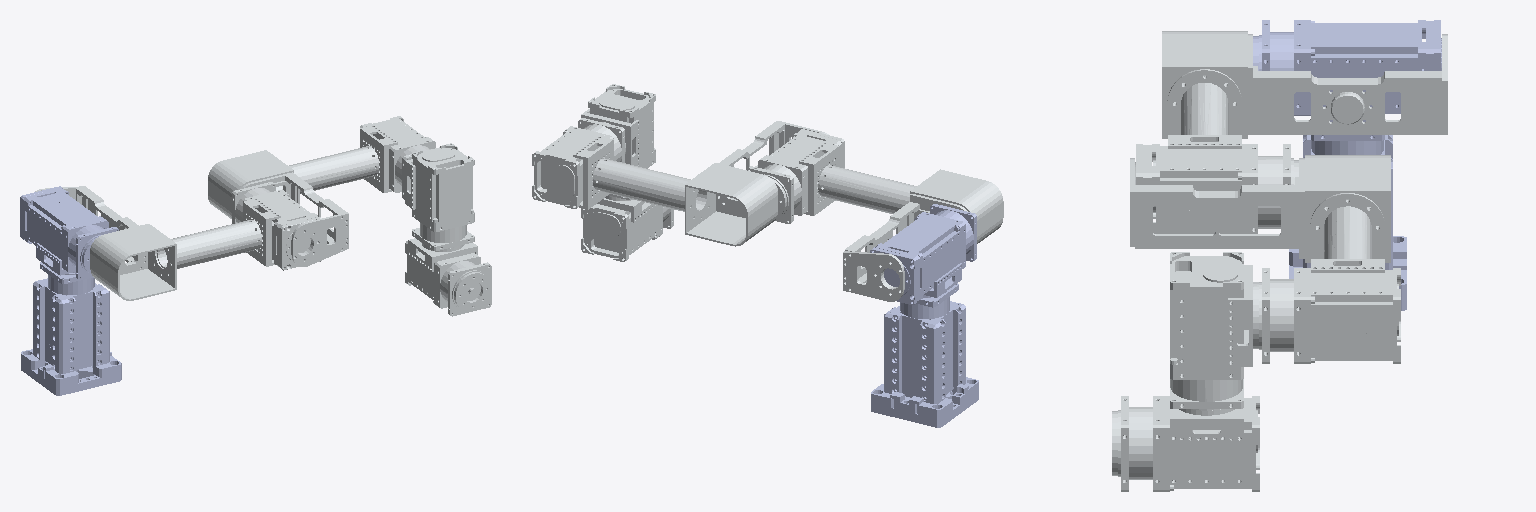
The robot description file, URDF, robot "single_arm_v12_plus":
<?xml version="1.0" encoding="utf-8"?>
<!-- This URDF was automatically created by SolidWorks to URDF Exporter! Originally created by [author] ([email redacted]) 
     Commit Version: 1.6.0-4-g7f85cfe  Build Version: 1.6.7995.38578
     For more information, please see http://wiki.ros.org/sw_urdf_exporter -->
<robot
  name="single_arm_v12_plus">
  <link name="dummy"/>
  <joint name="dummy_joint" type="fixed">
    <parent link="dummy"/>
    <child link="base_link"/>
    </joint>
  <link name='base_link'>
  <!-- <link
    name="base_link"> -->
    <inertial>
      <origin
        xyz="0.000156250860732315 0.000202963757501835 0.0643974948398569"
        rpy="0 0 0" />
      <mass
        value="0.477111748769872" />
      <inertia
        ixx="0.000590360417130005"
        ixy="3.55501513768968E-10"
        ixz="4.18207256663001E-06"
        iyy="0.000589971083789895"
        iyz="9.8397574064861E-08"
        izz="0.000221020393022398" />
    </inertial>
    <visual>
      <origin
        xyz="0 0 0"
        rpy="0 0 0" />
      <geometry>
        <mesh
          filename="package://single_arm_v12_plus/meshes/base_link.STL" />
      </geometry>
      <material
        name="">
        <color
          rgba="0.792156862745098 0.819607843137255 0.933333333333333 1" />
      </material>
    </visual>
    <collision>
      <origin
        xyz="0 0 0"
        rpy="0 0 0" />
      <geometry>
        <mesh
          filename="package://single_arm_v12_plus/meshes/base_link.STL" />
      </geometry>
    </collision>
  </link>
  <link
    name="Link1">
    <inertial>
      <origin
        xyz="3.44839622268278E-06 0.000398625697735052 0.0287689793053224"
        rpy="0 0 0" />
      <mass
        value="0.386131223153925" />
      <inertia
        ixx="0.00047431002724688"
        ixy="-7.08270540818778E-08"
        ixz="-3.55559180795245E-10"
        iyy="0.00017465191552395"
        iyz="4.18207766639286E-06"
        izz="0.000489072616009742" />
    </inertial>
    <visual>
      <origin
        xyz="0 0 0"
        rpy="0 0 0" />
      <geometry>
        <mesh
          filename="package://single_arm_v12_plus/meshes/Link1.STL" />
      </geometry>
      <material
        name="">
        <color
          rgba="0.792156862745098 0.819607843137255 0.933333333333333 1" />
      </material>
    </visual>
    <collision>
      <origin
        xyz="0 0 0"
        rpy="0 0 0" />
      <geometry>
        <mesh
          filename="package://single_arm_v12_plus/meshes/Link1.STL" />
      </geometry>
    </collision>
  </link>
  <joint
    name="Joint1"
    type="revolute">
    <origin
      xyz="0 0 0.1445"
      rpy="0 0 0" />
    <parent
      link="base_link" />
    <child
      link="Link1" />
    <axis
      xyz="0 0 1" />
    <limit
      lower="-3.14"
      upper="3.14"
      effort="50"
      velocity="0" />
  </joint>
  <link
    name="Link2">
    <inertial>
      <origin
        xyz="0.135675061894641 -0.00070505972728889 0.00578877956152345"
        rpy="0 0 0" />
      <mass
        value="0.615390607724248" />
      <inertia
        ixx="0.000594497490788828"
        ixy="1.07552164237656E-06"
        ixz="3.57015899918197E-06"
        iyy="0.000643938561178495"
        iyz="-8.29118408674084E-08"
        izz="0.000390175846318313" />
    </inertial>
    <visual>
      <origin
        xyz="0 0 0"
        rpy="0 0 0" />
      <geometry>
        <mesh
          filename="package://single_arm_v12_plus/meshes/Link2.STL" />
      </geometry>
      <material
        name="">
        <color
          rgba="0.898039215686275 0.917647058823529 0.929411764705882 1" />
      </material>
    </visual>
    <collision>
      <origin
        xyz="0 0 0"
        rpy="0 0 0" />
      <geometry>
        <mesh
          filename="package://single_arm_v12_plus/meshes/Link2.STL" />
      </geometry>
    </collision>
  </link>
  <joint
    name="Joint2"
    type="revolute">
    <origin
      xyz="0 -0.0685 0.0315"
      rpy="1.5707963267949 0 0" />
    <parent
      link="Link1" />
    <child
      link="Link2" />
    <axis
      xyz="0 0 1" />
    <limit
      lower="-3.14"
      upper="3.14"
      effort="50"
      velocity="0" />
  </joint>
  <link
    name="Link3">
    <inertial>
      <origin
        xyz="0.135406483957112 0.000471066373987306 -0.0075929405728547"
        rpy="0 0 0" />
      <mass
        value="0.558726771182515" />
      <inertia
        ixx="0.000527368072379024"
        ixy="-8.79483327326056E-07"
        ixz="-3.57015353375448E-06"
        iyy="0.000579703994248901"
        iyz="-8.29116899084522E-08"
        izz="0.000372569704142056" />
    </inertial>
    <visual>
      <origin
        xyz="0 0 0"
        rpy="0 0 0" />
      <geometry>
        <mesh
          filename="package://single_arm_v12_plus/meshes/Link3.STL" />
      </geometry>
      <material
        name="">
        <color
          rgba="0.898039215686275 0.917647058823529 0.929411764705882 1" />
      </material>
    </visual>
    <collision>
      <origin
        xyz="0 0 0"
        rpy="0 0 0" />
      <geometry>
        <mesh
          filename="package://single_arm_v12_plus/meshes/Link3.STL" />
      </geometry>
    </collision>
  </link>
  <joint
    name="Joint3"
    type="revolute">
    <origin
      xyz="0.214 0 -0.0325"
      rpy="0 0 0" />
    <parent
      link="Link2" />
    <child
      link="Link3" />
    <axis
      xyz="0 0 -1" />
    <limit
      lower="-3.14"
      upper="3.14"
      effort="50"
      velocity="0" />
  </joint>
  <link
    name="Link4">
    <inertial>
      <origin
        xyz="1.1102E-16 0.012447 0.030549"
        rpy="0 0 0" />
      <mass
        value="0.31385" />
      <inertia
        ixx="0.00030905"
        ixy="2.1146E-19"
        ixz="1.2674E-20"
        iyy="0.00013842"
        iyz="-3.5143E-06"
        izz="0.00032474" />
    </inertial>
    <visual>
      <origin
        xyz="0 0 0"
        rpy="0 0 0" />
      <geometry>
        <mesh
          filename="package://single_arm_v12_plus/meshes/Link4.STL" />
      </geometry>
      <material
        name="">
        <color
          rgba="0.89804 0.91765 0.92941 1" />
      </material>
    </visual>
    <collision>
      <origin
        xyz="0 0 0"
        rpy="0 0 0" />
      <geometry>
        <mesh
          filename="package://single_arm_v12_plus/meshes/Link4.STL" />
      </geometry>
    </collision>
  </link>
  <joint
    name="Joint4"
    type="revolute">
    <origin
      xyz="0.214 0 0.0325"
      rpy="0 0 -3.1416" />
    <parent
      link="Link3" />
    <child
      link="Link4" />
    <axis
      xyz="0 0 1" />
    <limit
      lower="-3.14"
      upper="3.14"
      effort="50"
      velocity="0" />
  </joint>
  <link
    name="Link5">
    <inertial>
      <origin
        xyz="0.030549 0.012447 -3.3307E-16"
        rpy="0 0 0" />
      <mass
        value="0.31385" />
      <inertia
        ixx="0.00032474"
        ixy="-3.5143E-06"
        ixz="-2.9646E-20"
        iyy="0.00013842"
        iyz="4.0229E-20"
        izz="0.00030905" />
    </inertial>
    <visual>
      <origin
        xyz="0 0 0"
        rpy="0 0 0" />
      <geometry>
        <mesh
          filename="package://single_arm_v12_plus/meshes/Link5.STL" />
      </geometry>
      <material
        name="">
        <color
          rgba="0.89804 0.91765 0.92941 1" />
      </material>
    </visual>
    <collision>
      <origin
        xyz="0 0 0"
        rpy="0 0 0" />
      <geometry>
        <mesh
          filename="package://single_arm_v12_plus/meshes/Link5.STL" />
      </geometry>
    </collision>
  </link>
  <joint
    name="Joint5"
    type="revolute">
    <origin
      xyz="0 0.0685 0.0346"
      rpy="1.5708 0 1.5708" />
    <parent
      link="Link4" />
    <child
      link="Link5" />
    <axis
      xyz="-1 0 0" />
    <limit
      lower="-3.14"
      upper="3.14"
      effort="50"
      velocity="0" />
  </joint>
  <link
    name="Link6">
    <inertial>
      <origin
        xyz="-1.11022302462516E-16 1.73472347597681E-18 0.0055"
        rpy="0 0 0" />
      <mass
        value="0.0173494454294496" />
      <inertia
        ixx="2.53988652151547E-06"
        ixy="-2.00729161979554E-22"
        ixz="-3.90838944351189E-22"
        iyy="2.53988652151547E-06"
        iyz="-1.17534537510526E-22"
        izz="4.79061561920678E-06" />
    </inertial>
    <visual>
      <origin
        xyz="0 0 0"
        rpy="0 0 0" />
      <geometry>
        <mesh
          filename="package://single_arm_v12_plus/meshes/Link6.STL" />
      </geometry>
      <material
        name="">
        <color
          rgba="0.792156862745098 0.819607843137255 0.933333333333333 1" />
      </material>
    </visual>
    <collision>
      <origin
        xyz="0 0 0"
        rpy="0 0 0" />
      <geometry>
        <mesh
          filename="package://single_arm_v12_plus/meshes/Link6.STL" />
      </geometry>
    </collision>
  </link>
  <joint
    name="Joint6"
    type="revolute">
    <origin
      xyz="0.0346 0.0685 0"
      rpy="1.5708 -1.5708 0" />
    <parent
      link="Link5" />
    <child
      link="Link6" />
    <axis
      xyz="0 0 1" />
    <limit
      lower="-3.14"
      upper="3.14"
      effort="50"
      velocity="0" />
  </joint>
</robot>

--- What the picture shows (computed from the rendered views, not written in the file) ---
Views: 3 orthographic renders of the robot side by side, from view 1: azimuth 30°, elevation 25°; view 2: azimuth 150°, elevation 25°; view 3: azimuth 270°, elevation 25°.
Model single_arm_v12_plus with 8 links and 7 joints (6 revolute, 1 fixed), rooted at dummy, posed every joint at zero.
Links seen in each view (by area): view 1: Link2, Link3, base_link, Link4, Link1, Link5; view 2: Link3, Link2, base_link, Link1, Link5, Link4; view 3: Link2, Link3, Link4, Link5, Link1, base_link.
Link boxes in pixels (left/top/right/bottom): Link2: left=35, top=182, right=321, bottom=300; Link3: left=208, top=116, right=439, bottom=266; base_link: left=21, top=262, right=121, bottom=395; Link4: left=405, top=143, right=474, bottom=250; Link1: left=20, top=186, right=118, bottom=280; Link5: left=405, top=238, right=491, bottom=316; Link3: left=532, top=118, right=828, bottom=246; Link2: left=747, top=129, right=1003, bottom=301; base_link: left=871, top=283, right=978, bottom=427; Link1: left=870, top=204, right=976, bottom=304; Link5: left=581, top=196, right=673, bottom=261; Link4: left=581, top=84, right=655, bottom=199; Link2: left=1135, top=31, right=1447, bottom=233; Link3: left=1130, top=155, right=1400, bottom=363; Link4: left=1170, top=252, right=1258, bottom=410; Link5: left=1112, top=396, right=1259, bottom=491; Link1: left=1253, top=20, right=1441, bottom=121; base_link: left=1289, top=135, right=1406, bottom=310.
Bounding box of the posed robot: 0.501 × 0.2451 × 0.215 m (x, y, z).
Meshes: 7 distinct files referenced, 6 mesh visuals loaded (6 binary STL); not drawn: 1 (reference not matched to a file when rendering).
